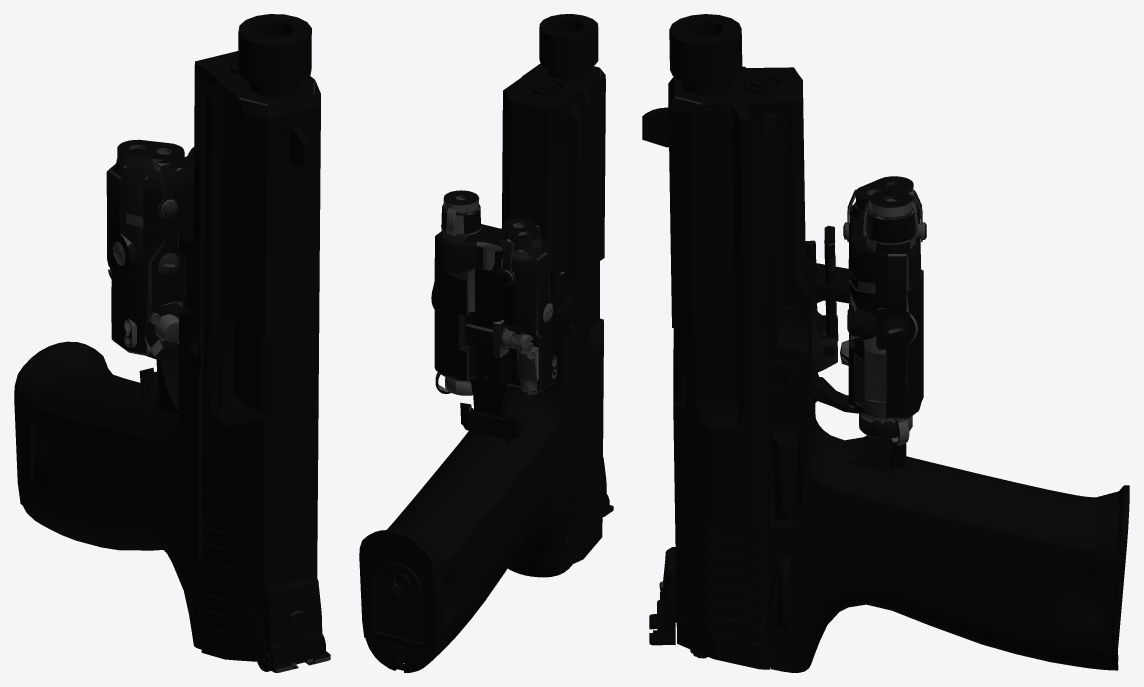
The model's file is HK_USP45__Adapter_USP_Rail__Laser_Rifle.fbx.
3 renders of one model, left to right at view 1: azimuth 30°, elevation 25°; view 2: azimuth 150°, elevation 25°; view 3: azimuth 270°, elevation 25°, orthographic. The views are drawn at different scales.
Parts seen in each view (by area): view 1: asset_HK_USP45.001; view 2: asset_HK_USP45.001; view 3: asset_HK_USP45.001.
Boxes of the visible parts, x1,y1,x2,y2 form: asset_HK_USP45.001: (14,14,330,672); asset_HK_USP45.001: (359,14,613,672); asset_HK_USP45.001: (642,14,1129,672).
Size of the model in its own units: 0.0289 by 0.135 by 0.0938.
